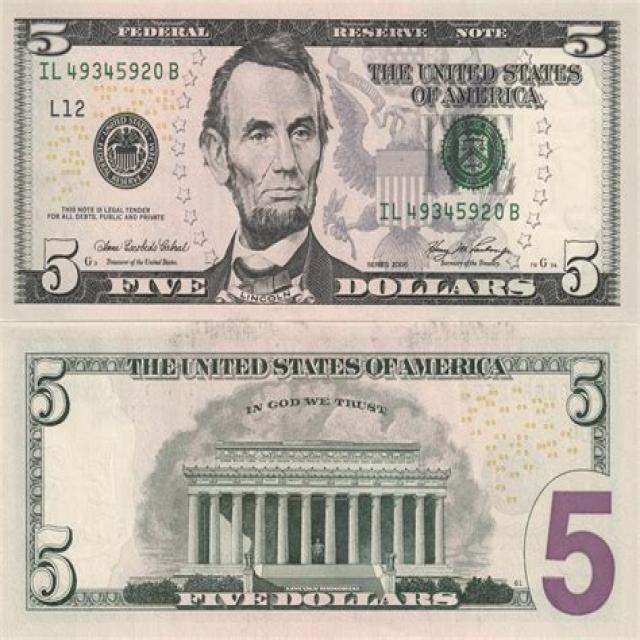banknote: (0, 0, 640, 323), (0, 325, 636, 635), (536, 482, 625, 619), (24, 522, 82, 608), (550, 230, 614, 302), (25, 347, 73, 437), (561, 353, 613, 432), (102, 266, 214, 302), (36, 232, 84, 298), (177, 584, 271, 615), (22, 11, 75, 62), (559, 16, 611, 66)
